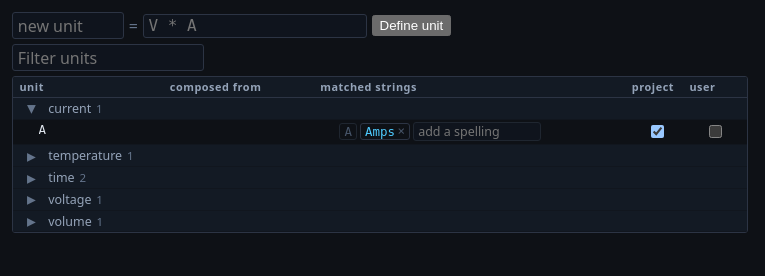
Test: the per-row scope checkboxes › are ticked where the row's mappings actually persist, and dead where nothing does
Check: the list item "A" is shown, box [39,122,46,137]
Check: the checkbox named "Keep A mappings in this project" is checked, box [651,125,664,138]
Step 1. Click the button "▸" next to "voltage" → [31, 199], box [19,190,43,208]
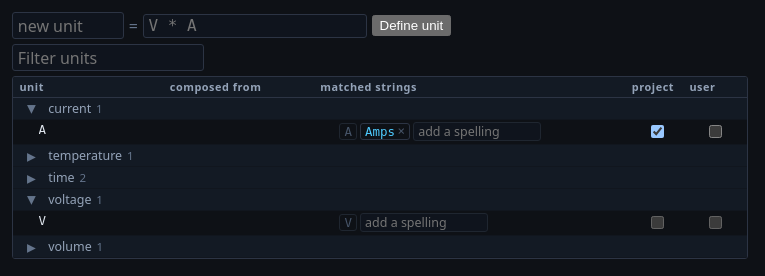
Check: the checkbox named "Keep V mappings in this project" is disabled, box [651,216,664,229]
